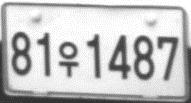1: (85, 31, 102, 80), (36, 31, 51, 77)
4: (106, 34, 132, 80)
7: (156, 35, 178, 81)
8: (133, 34, 155, 80), (11, 30, 32, 77)
우: (57, 40, 80, 79)
